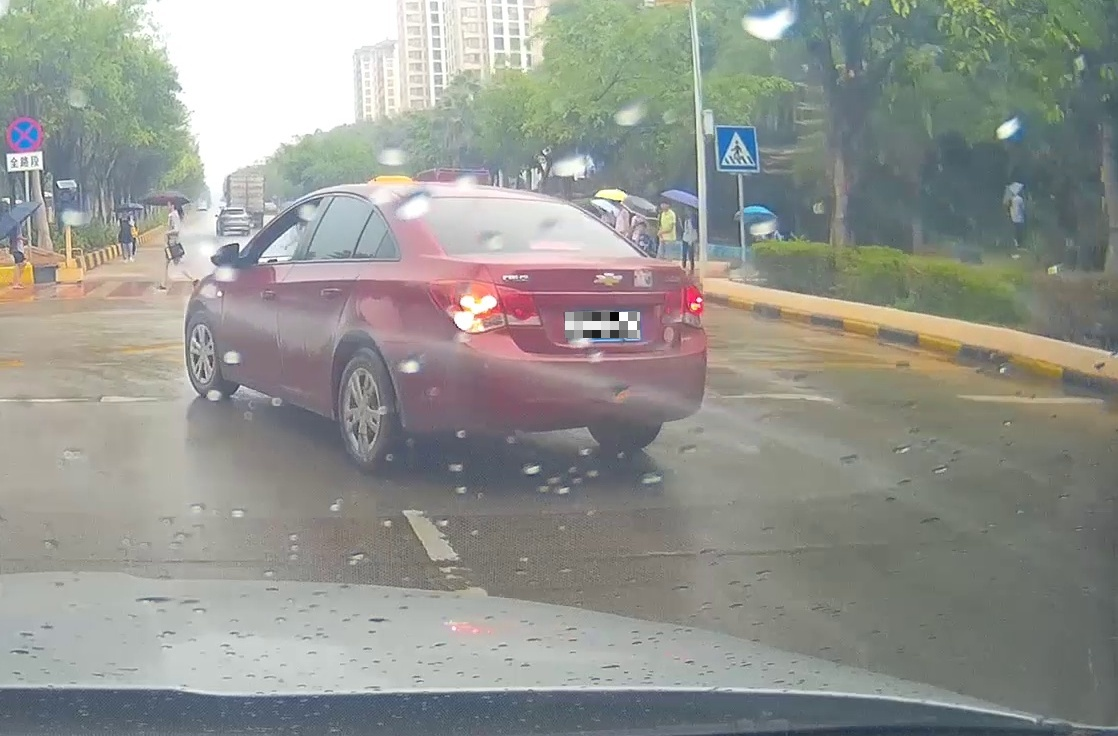L_light: (427, 279, 542, 334)
R_light: (660, 282, 704, 329)
T_light: (530, 239, 579, 250)
day-left: (395, 187, 707, 465)
plate_1: (565, 312, 640, 338)
